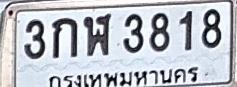1: (179, 11, 192, 50)
3: (122, 13, 144, 53), (24, 18, 45, 59)
8: (150, 12, 170, 52), (201, 8, 221, 48)
A01: (52, 17, 78, 58)
A42: (83, 13, 111, 56)
BKK: (48, 66, 201, 87)
